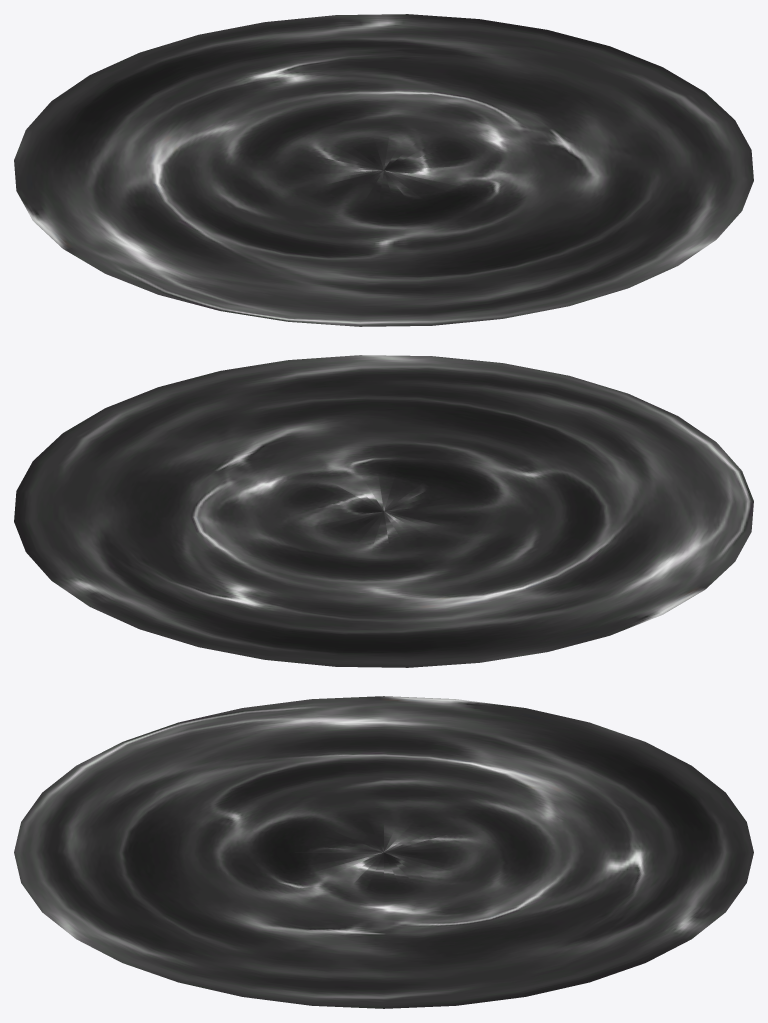
Rendered from 10071_bend_001.FBX.
3 views of the same model, one above another, from view 1: azimuth 30°, elevation 25°; view 2: azimuth 150°, elevation 25°; view 3: azimuth 270°, elevation 25° (orthographic).
Parts seen in each view (by area): view 1: Plane001; view 2: Plane001; view 3: Plane001.
Boxes of the visible parts, x1,y1,x2,y2 form: Plane001: (14, 14, 753, 326); Plane001: (14, 355, 753, 667); Plane001: (14, 696, 753, 1008).
Size of the model in its own units: 24.22 by 1.75e-06 by 24.22.
